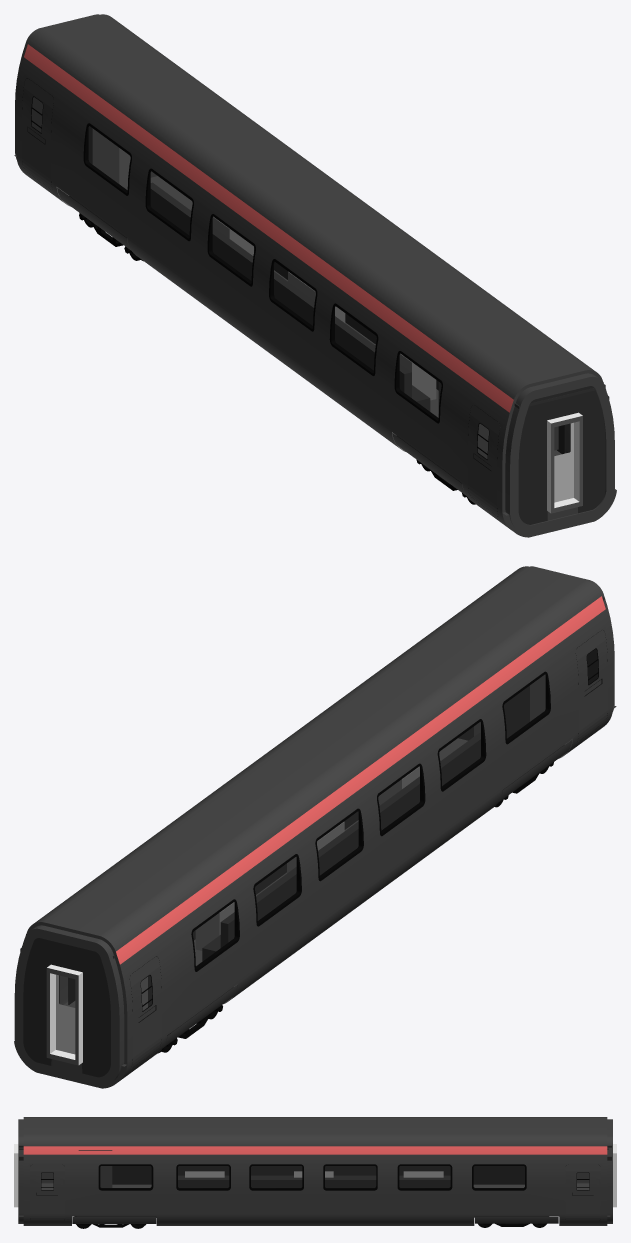
The model's file is hs_lounge-car.glb.
3 views of the same model, one above another, from view 1: azimuth 30°, elevation 25°; view 2: azimuth 150°, elevation 25°; view 3: azimuth 270°, elevation 25° (orthographic). The views are drawn at different scales.
Visible parts, largest first — view 1: instance_147, Box (×4), Box_3, group_0, mesh_10_instance_1, mesh_10_instance_0, Box_2, Box_6, mesh_14_instance_0, mesh_14_instance_5, mesh_14_instance_1, mesh_14_instance_2; view 2: instance_147, Box (×5), Box_3, group_0, mesh_10_instance_1, mesh_10_instance_0, Box_5, Box_7, mesh_14_instance_0, mesh_14_instance_1, mesh_14_instance_2, mesh_14_instance_5 (+1 smaller); view 3: instance_147, Box_1, mesh_10_instance_2, Box, mesh_10_instance_3, Box_3, Box_4 (×2), mesh_1_instance_0, mesh_1_instance_1, group_0 (×2), mesh_16_instance_0, mesh_16_instance_4 (+6 smaller).
Part boxes in pixels (x1=…): instance_147: x1=14, y1=14, x2=616, y2=537; Box (×4): x1=518, y1=389, x2=609, y2=524; Box_3: x1=150, y1=182, x2=411, y2=397; group_0: x1=547, y1=412, x2=582, y2=513; mesh_10_instance_1: x1=22, y1=78, x2=53, y2=189; mesh_10_instance_0: x1=468, y1=404, x2=499, y2=516; Box_2: x1=89, y1=126, x2=119, y2=183; Box_6: x1=399, y1=353, x2=436, y2=400; mesh_14_instance_0: x1=83, y1=123, x2=131, y2=195; mesh_14_instance_5: x1=394, y1=351, x2=442, y2=423; mesh_14_instance_1: x1=145, y1=168, x2=193, y2=241; mesh_14_instance_2: x1=207, y1=214, x2=255, y2=286; instance_147: x1=14, y1=566, x2=616, y2=1088; Box (×5): x1=20, y1=933, x2=110, y2=1077; Box_3: x1=220, y1=732, x2=480, y2=947; group_0: x1=46, y1=964, x2=82, y2=1065; mesh_10_instance_1: x1=130, y1=956, x2=161, y2=1067; mesh_10_instance_0: x1=576, y1=630, x2=607, y2=741; Box_5: x1=504, y1=674, x2=545, y2=738; Box_7: x1=195, y1=902, x2=234, y2=950; mesh_14_instance_0: x1=191, y1=899, x2=239, y2=971; mesh_14_instance_1: x1=253, y1=854, x2=301, y2=926; mesh_14_instance_2: x1=315, y1=808, x2=363, y2=881; mesh_14_instance_5: x1=502, y1=671, x2=550, y2=744; instance_147: x1=18, y1=1117, x2=612, y2=1225; Box_1: x1=178, y1=1177, x2=450, y2=1187; mesh_10_instance_2: x1=565, y1=1164, x2=600, y2=1220; Box: x1=112, y1=1166, x2=524, y2=1184; mesh_10_instance_3: x1=30, y1=1164, x2=64, y2=1220; Box_3: x1=178, y1=1166, x2=450, y2=1175; Box_4 (×2): x1=78, y1=1150, x2=450, y2=1187; mesh_1_instance_0: x1=72, y1=1217, x2=156, y2=1223; mesh_1_instance_1: x1=475, y1=1217, x2=558, y2=1223; group_0 (×2): x1=14, y1=1144, x2=616, y2=1207; mesh_16_instance_0: x1=98, y1=1164, x2=153, y2=1190; mesh_16_instance_4: x1=397, y1=1164, x2=452, y2=1190.
Size of the model in its own units: 3.5 by 4.71 by 27.38.
